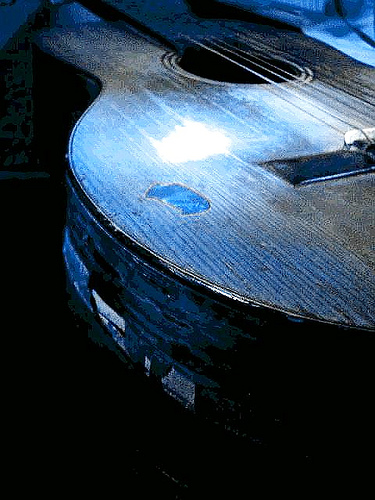guitar: (32, 1, 375, 429)
